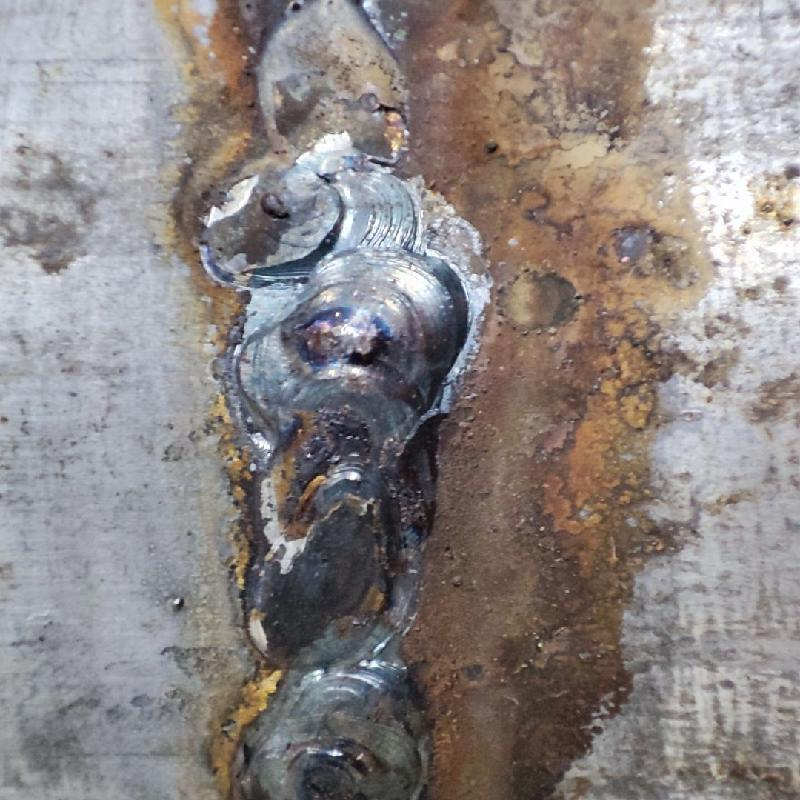Not_fully_soldered: (202, 0, 431, 254)
wrong_size: (203, 261, 472, 791)
